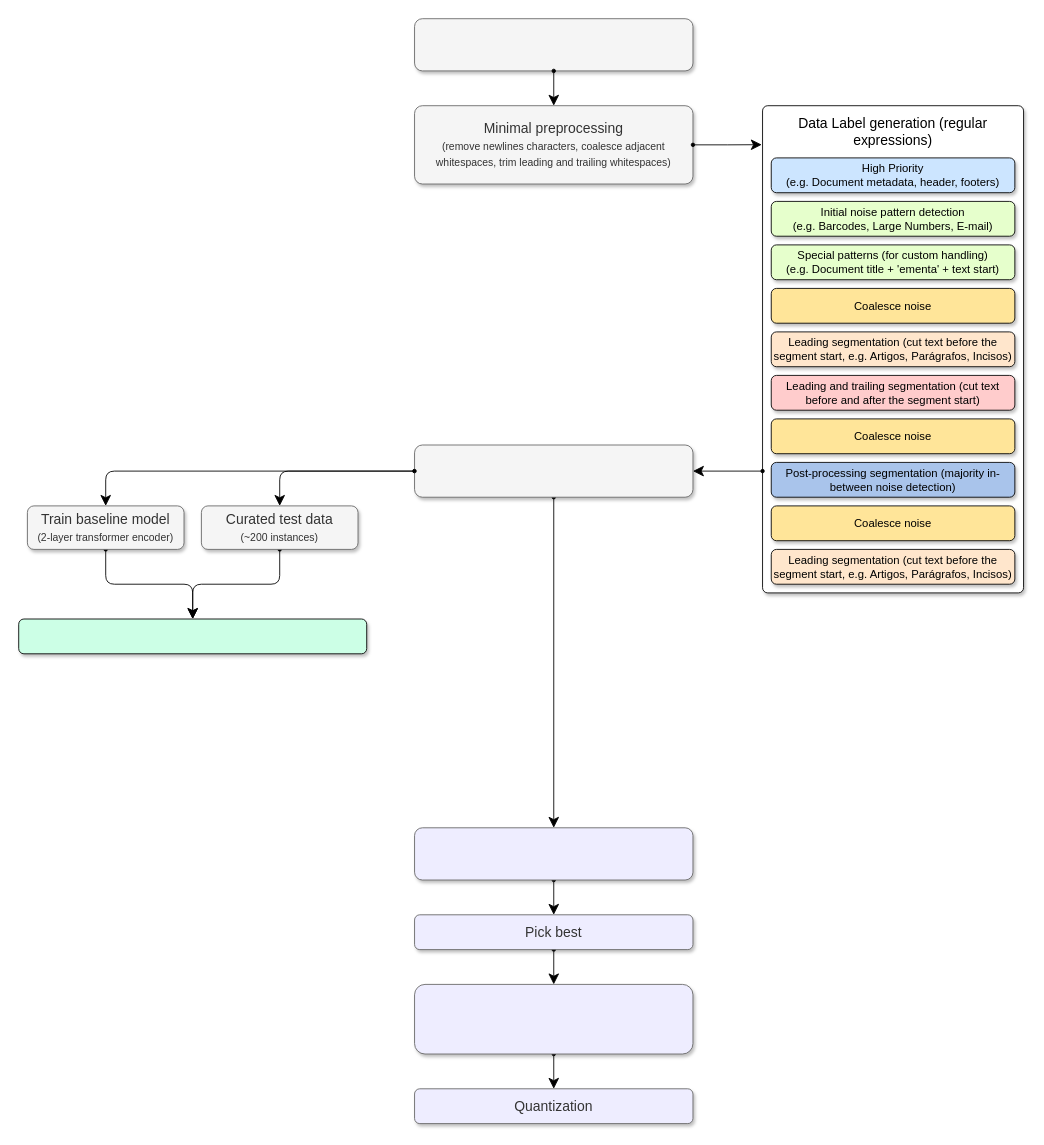
Some shapes in this 1044 by 1145 pixel diagram are drawn without their labels. The centre of each missing label's shape, as x and y in pixels:
"Evaluate baseline model, collect results" goes at point 193,637.
"Model Distillation (MiniLMv2-like Knowledge Distillation + Teacher Assistant)" goes at point 554,1020.
"Models with varying layer count (2, 4, 6, 8, 10?, 12?)" goes at point 554,854.
"Raw text data (>100k instances)" goes at point 554,45.
"Train/Eval/Test split (90% / 5% / 5%)" goes at point 554,472.
